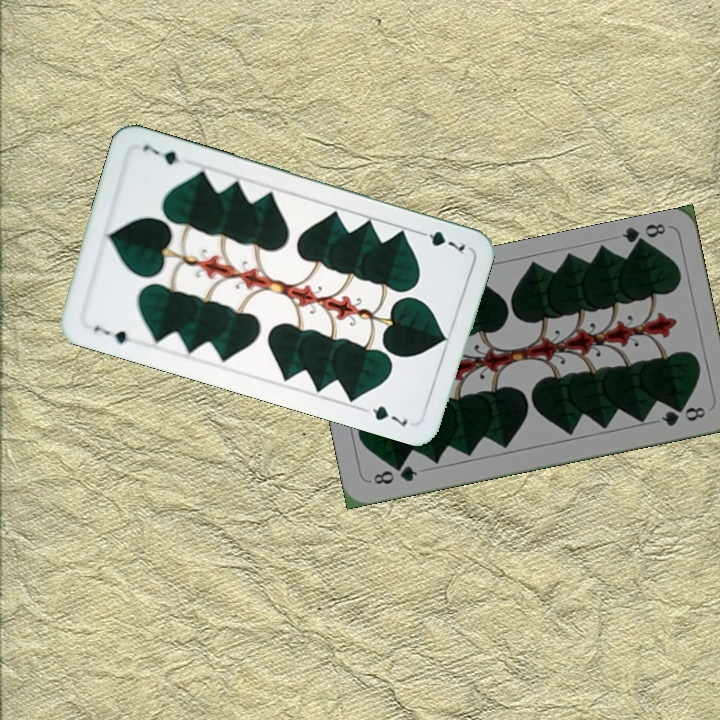G7: (412, 226, 468, 258), (89, 321, 132, 347)
G8: (618, 219, 668, 252), (369, 461, 420, 487)
